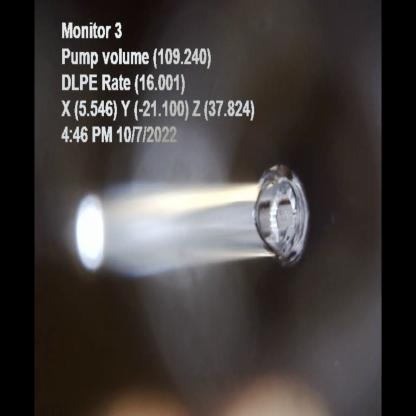Droplet: (254, 166, 312, 271)
